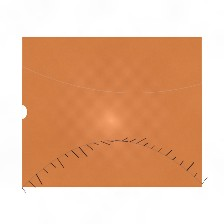corneal_ulcer: (74, 86, 126, 128)
